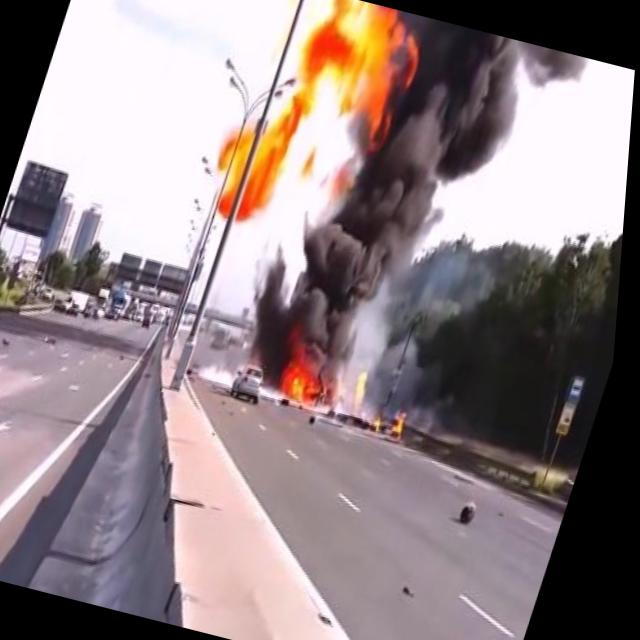fire: (201, 0, 439, 255), (276, 326, 356, 414), (351, 362, 386, 418), (373, 406, 418, 443)
